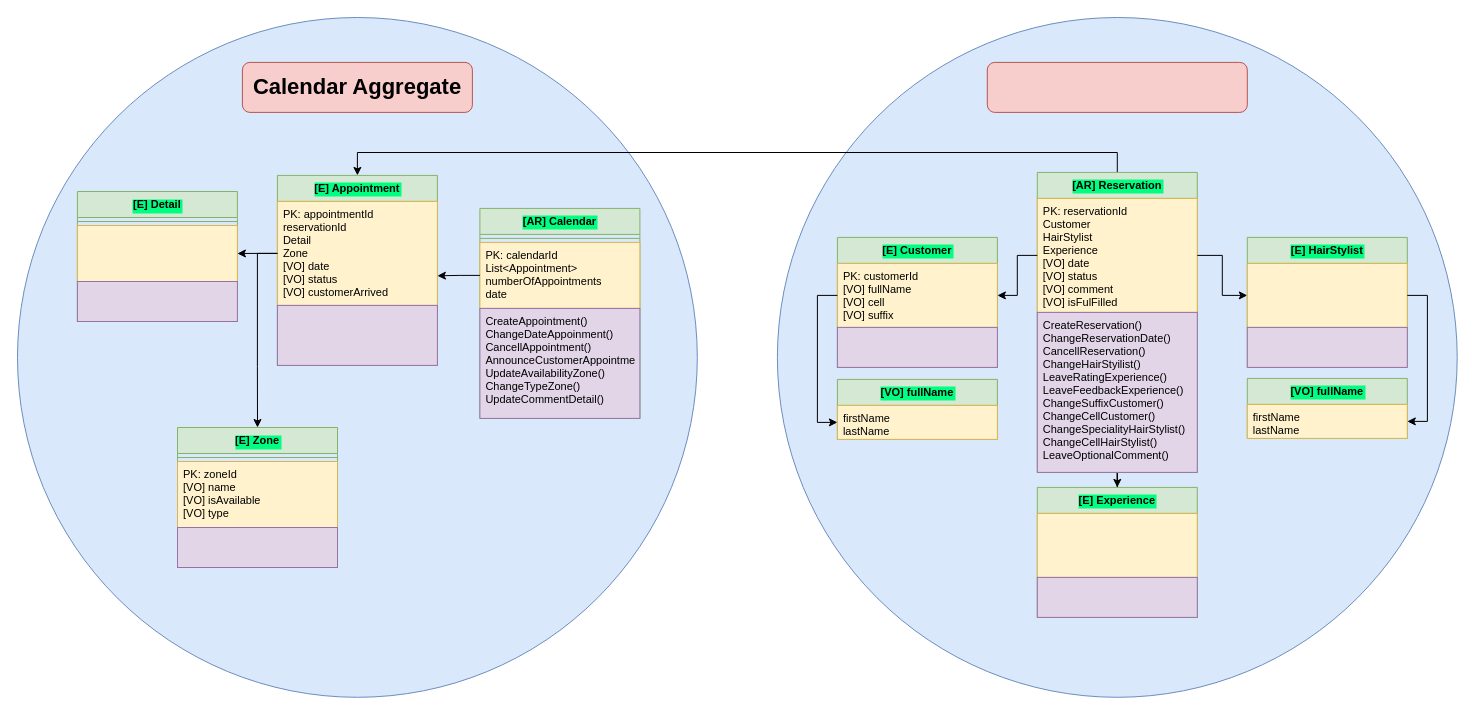
This 1475x715 diagram has some shape labels left out. The centre of each missing label's shape, as x and y in pixels:
"ChangeSpeciality() ChangeCell()" goes at (1326,346).
"ChangeSuffix() ChangeCell()" goes at (916,346).
"CreateAppointment() ChangeDate() CancellAppointment() AnnounceCustomer()" goes at (356,334).
"LeaveRating() LeaveFeedback()" goes at (1116,596).
"PK: detailId [VO] lastUpdated [VO] comment" goes at (156,253).
"PK: experienceId [VO] lastUpdated [VO] rating [VO] feedback" goes at (1116,544).
"PK: hairStylistId [VO] fullName [VO] cell [VO] speciality" goes at (1326,294).
"Reservation Aggregate" goes at (1116,86).
"UpdateAvailability() ChangeType()" goes at (257,547).
"UpdateComment()" goes at (156,301).
